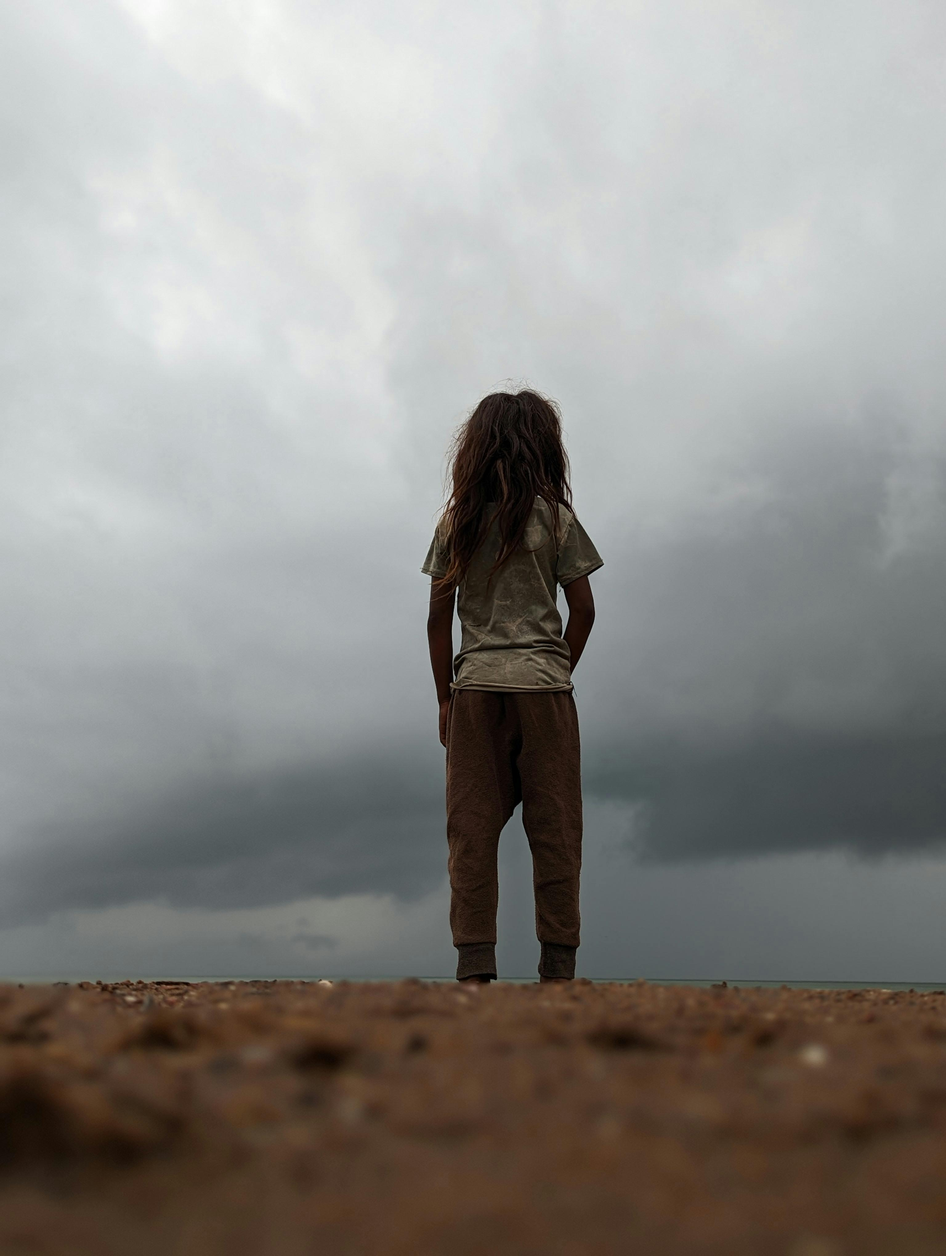Human: (355, 355, 674, 984)
